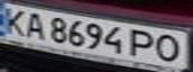4: (103, 24, 130, 55)
6: (63, 18, 87, 48)
8: (45, 15, 69, 44)
9: (81, 20, 106, 52)
A: (21, 10, 48, 39)
K: (0, 6, 30, 35)
O: (151, 33, 187, 63)
P: (124, 28, 160, 60)
